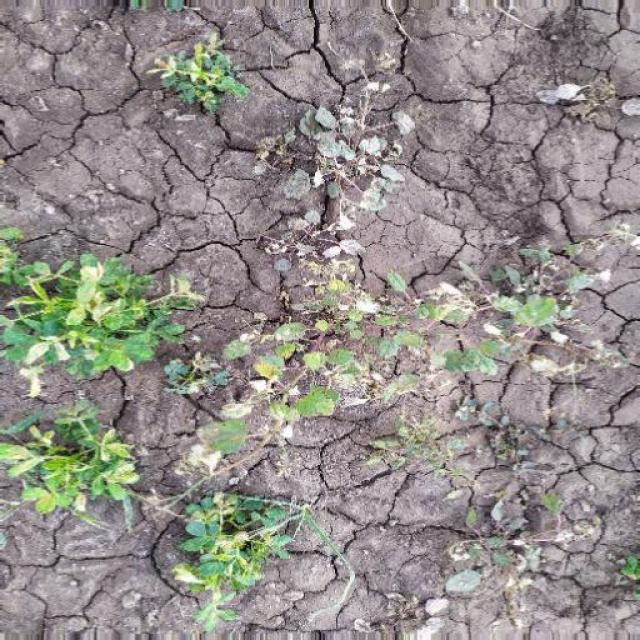weed: (231, 126, 610, 436), (9, 218, 200, 536), (144, 40, 246, 110)
